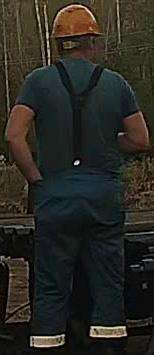helmet: (50, 3, 104, 39)
